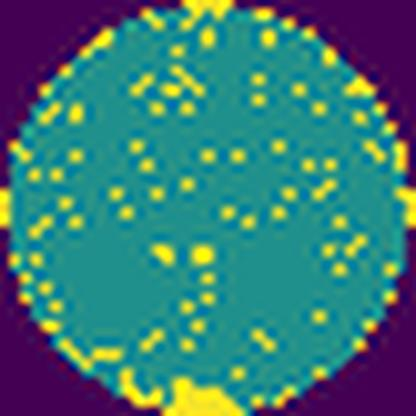Edge-Loc: (159, 373, 253, 415), (118, 360, 164, 411), (178, 0, 242, 34)
